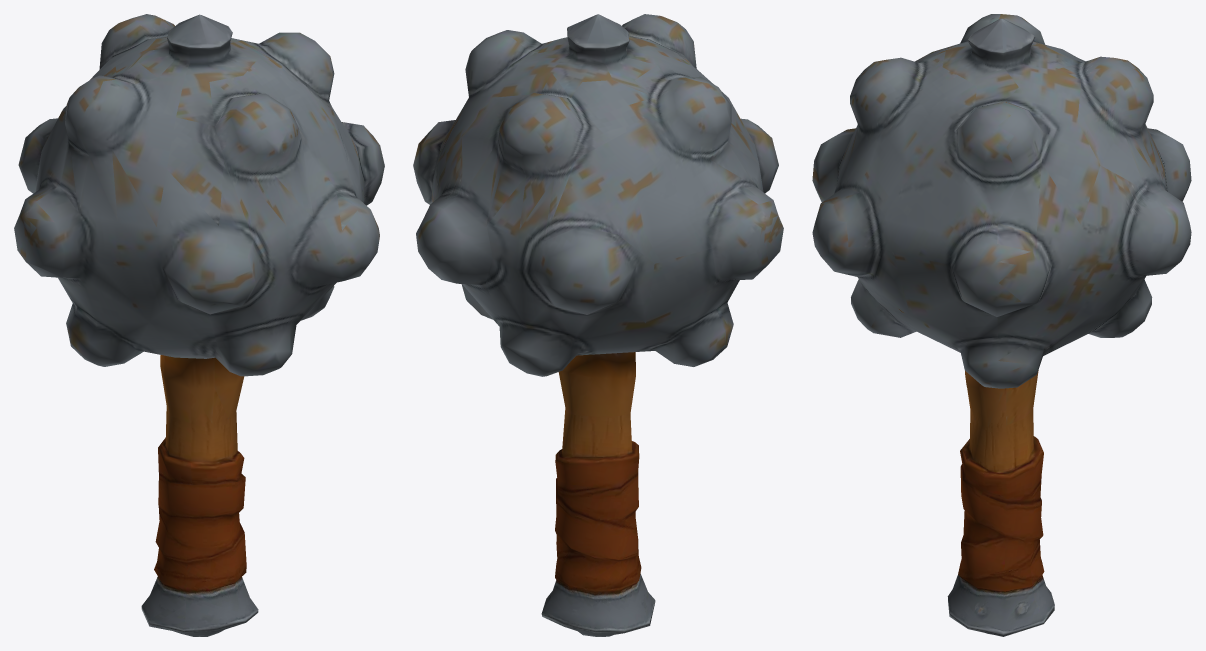
The model's file is mace_wynd_mid.glb.
3 renders of one model, left to right at view 1: azimuth 30°, elevation 25°; view 2: azimuth 150°, elevation 25°; view 3: azimuth 270°, elevation 25°, orthographic.
Visible parts, largest first — view 1: tripo_node_8aa72e07-495f-4aa5-be46-536c9f761934; view 2: tripo_node_8aa72e07-495f-4aa5-be46-536c9f761934; view 3: tripo_node_8aa72e07-495f-4aa5-be46-536c9f761934.
Boxes of the visible parts, <box> form: tripo_node_8aa72e07-495f-4aa5-be46-536c9f761934: <box>14,14,384,636</box>; tripo_node_8aa72e07-495f-4aa5-be46-536c9f761934: <box>413,14,783,636</box>; tripo_node_8aa72e07-495f-4aa5-be46-536c9f761934: <box>812,14,1191,636</box>.
Size of the model in its own units: 0.8228 by 1.4 by 0.7914.
1 material, 1 textured.
